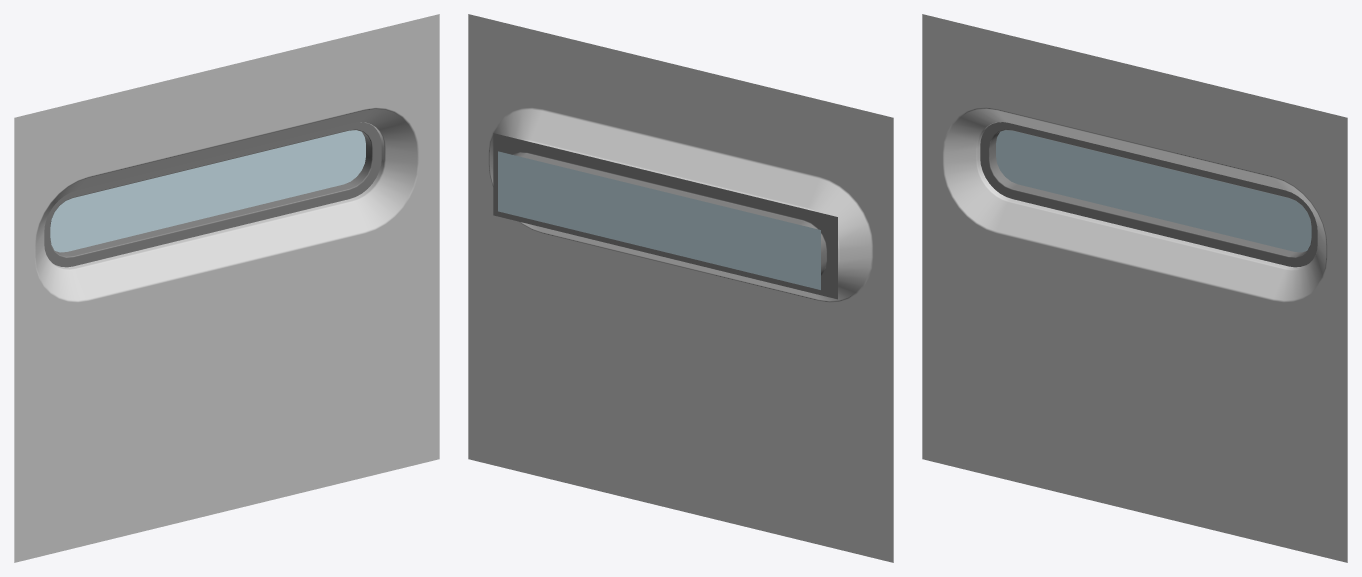
Rendered from ApartmentExteriorWindowSmall04.fbx.
3 views of the same model, side by side, from view 1: azimuth 30°, elevation 25°; view 2: azimuth 150°, elevation 25°; view 3: azimuth 330°, elevation 25° (orthographic).
Parts seen in each view (by area): view 1: ApartmentExteriorWindowSmall04; view 2: ApartmentExteriorWindowSmall04; view 3: ApartmentExteriorWindowSmall04.
Part boxes in pixels (x1,y1,x2,y2): ApartmentExteriorWindowSmall04: (14, 14, 439, 562); ApartmentExteriorWindowSmall04: (468, 14, 893, 562); ApartmentExteriorWindowSmall04: (922, 14, 1347, 562).
Bounding box in the file's own units: 400 × 400 × 35.
